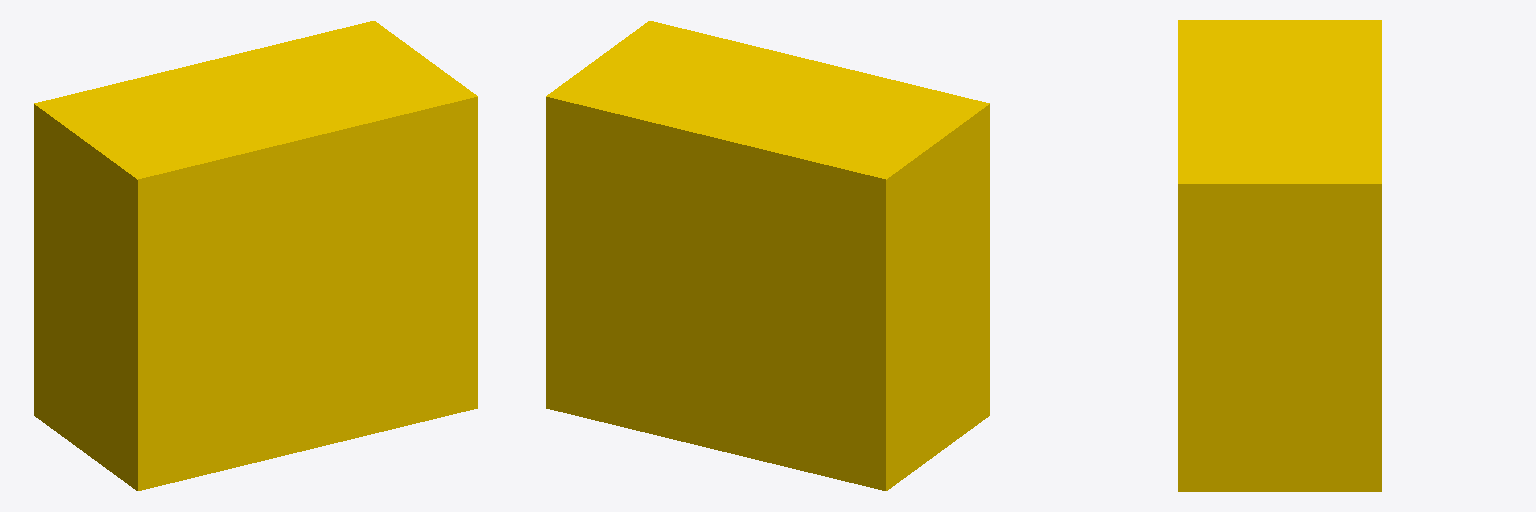
robot.urdf — cube:
<?xml version="1.0"?>
 <robot name="cube">
   <material name="golden">
     <color rgba="1 0.843 0 1"/>
   </material>
   <link name="base_link">
     <visual>
       <geometry>
         <box size="0.0823294 0.0941151 0.0496827"/>
       </geometry>
       <origin xyz="-0.02484135 -0.02484135 0.0411647" rpy="0 1.5707963 1.5707963"/>
       <material name="golden"/>
     </visual>
     <inertial>
       <mass value="0"/>
       <inertia ixx="1.0" ixy="0.0" ixz="0.0" iyy="1.0" iyz="0.0" izz="1.0"/>
     </inertial>
   </link>
 </robot>

--- Facts derived from the render (not from the file) ---
The picture shows the robot from 3 angles, left to right: view 1: azimuth 30°, elevation 25°; view 2: azimuth 150°, elevation 25°; view 3: azimuth 270°, elevation 25°; orthographic projection.
Robot: cube — 1 links, 0 joints (none); root link base_link; default pose: every joint at zero.
Visible links, largest first — view 1: base_link; view 2: base_link; view 3: base_link.
Boxes of the visible links, x1,y1,x2,y2 form: base_link: [34, 21, 477, 490]; base_link: [546, 21, 989, 490]; base_link: [1178, 20, 1381, 491].
Bounding box of the posed robot: 0.0941 × 0.0497 × 0.0823 m (x, y, z).
Geometry: primitives only (box / cylinder / sphere), no mesh files.